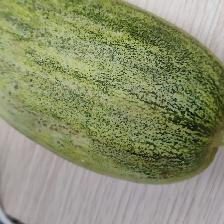gua: (1, 1, 220, 181)
